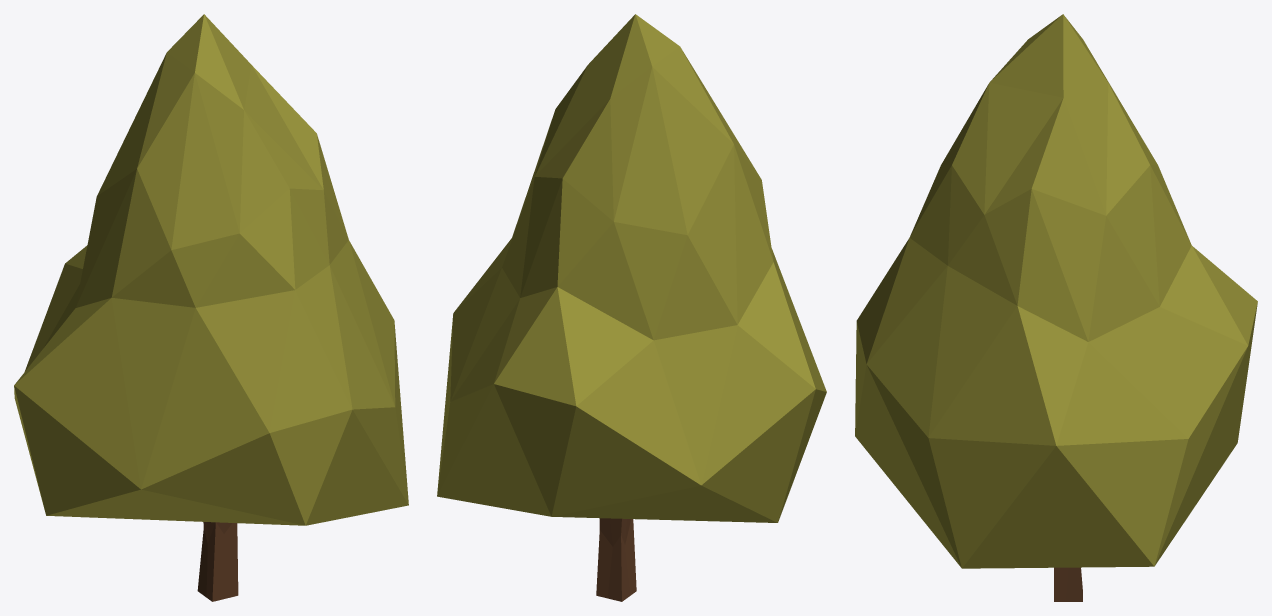
Rendered from Tree_14_Yellow.fbx.
3 views of the same model, side by side, from view 1: azimuth 30°, elevation 25°; view 2: azimuth 150°, elevation 25°; view 3: azimuth 270°, elevation 25° (orthographic).
Parts seen in each view (by area): view 1: Tree_14_Yellow_Part_1, Tree_14_Yellow_Part_2; view 2: Tree_14_Yellow_Part_1, Tree_14_Yellow_Part_2; view 3: Tree_14_Yellow_Part_1, Tree_14_Yellow_Part_2.
Part boxes in pixels (x1,y1,x2,y2): Tree_14_Yellow_Part_1: (14, 14, 408, 525); Tree_14_Yellow_Part_2: (197, 522, 238, 601); Tree_14_Yellow_Part_1: (437, 14, 826, 522); Tree_14_Yellow_Part_2: (596, 518, 636, 601); Tree_14_Yellow_Part_1: (855, 14, 1257, 568); Tree_14_Yellow_Part_2: (1054, 567, 1082, 601).
Size of the model in its own units: 527 by 791 by 503.
